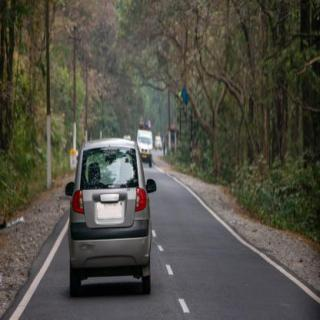Normal_vehicle: (65, 138, 156, 295)
